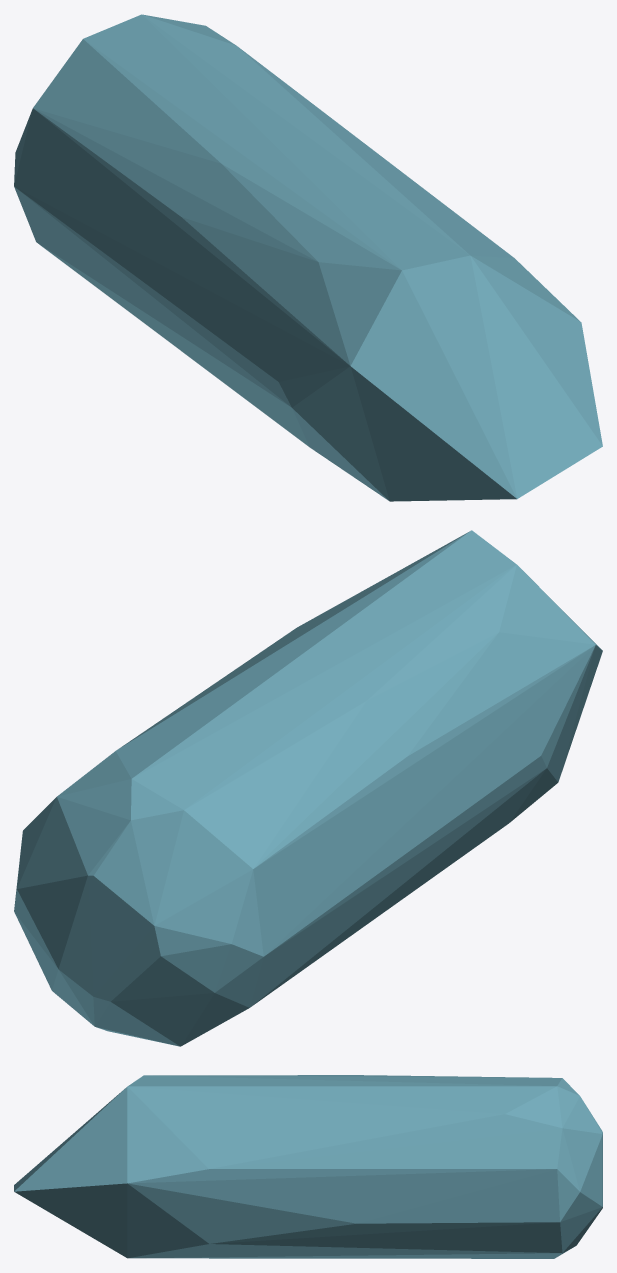
Rendered from food_beverage_bottledWater_e01.glb.
The picture shows the model from 3 angles, top to bottom: view 1: azimuth 30°, elevation 25°; view 2: azimuth 150°, elevation 25°; view 3: azimuth 270°, elevation 25°; orthographic projection. The views are drawn at different scales.
Visible parts, largest first — view 1: geometry_0; view 2: geometry_0; view 3: geometry_0.
Part boxes in pixels (<box>): geometry_0: <box>14,14,602,501</box>; geometry_0: <box>14,530,602,1046</box>; geometry_0: <box>14,1075,602,1258</box>.
Bounding box in the file's own units: 0.1501 × 0.148 × 0.48.
